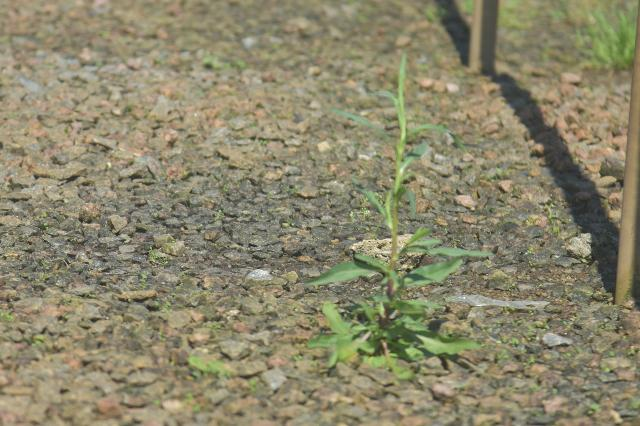MalezaMontesDelPlata: (327, 46, 483, 375)
